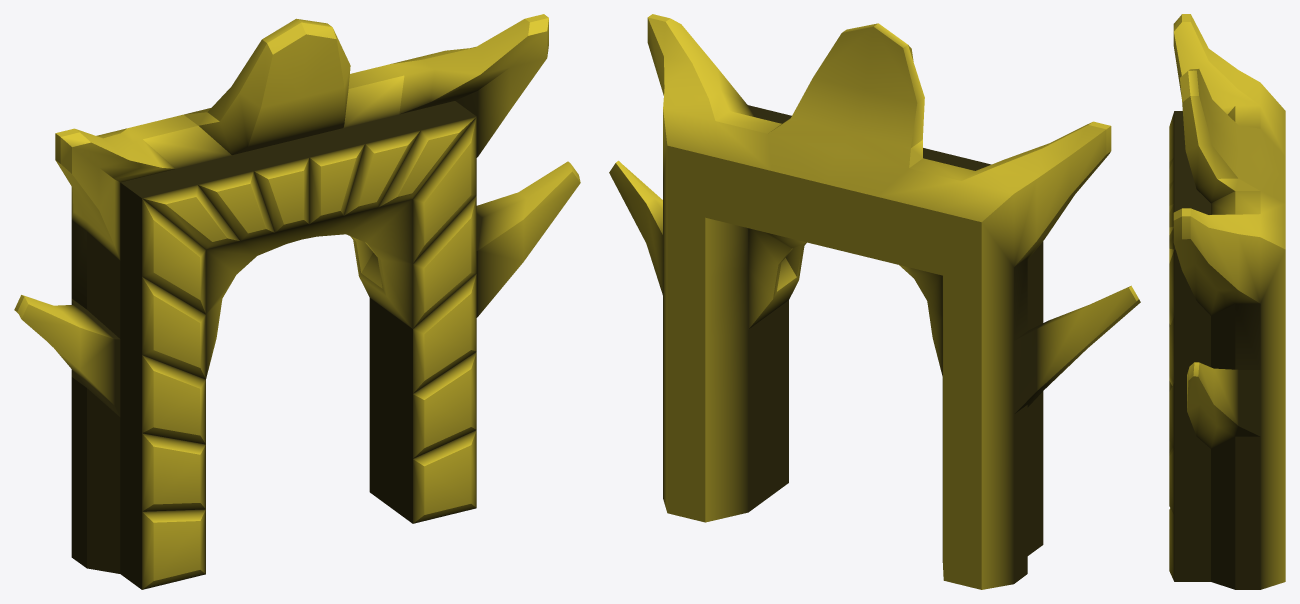
The model's file is Portal1_1.1.fbx.
3 views of the same model, side by side, from view 1: azimuth 30°, elevation 25°; view 2: azimuth 150°, elevation 25°; view 3: azimuth 270°, elevation 25° (orthographic). The views are drawn at different scales.
Visible parts, largest first — view 1: Cube; view 2: Cube; view 3: Cube.
Boxes of the visible parts, x1,y1,x2,y2 form: Cube: (14, 14, 580, 589); Cube: (609, 14, 1140, 589); Cube: (1169, 14, 1285, 589).
Size of the model in its own units: 362 by 321 by 76.64.
